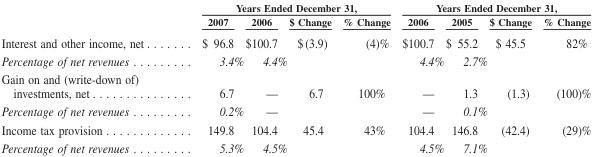table: (0, 1, 590, 154)
table column: (0, 1, 172, 154), (172, 1, 243, 154), (336, 1, 395, 154), (536, 1, 590, 154), (287, 1, 336, 154), (395, 1, 444, 154), (487, 1, 536, 154), (243, 1, 287, 154), (444, 1, 487, 154)
table column header: (0, 1, 590, 31)
table row: (0, 69, 590, 101), (0, 31, 590, 51), (0, 101, 590, 120), (0, 51, 590, 69), (0, 120, 590, 138), (0, 14, 590, 31), (0, 138, 590, 154), (0, 1, 590, 14)
table spanning cell: (172, 1, 395, 14), (395, 1, 590, 14)
